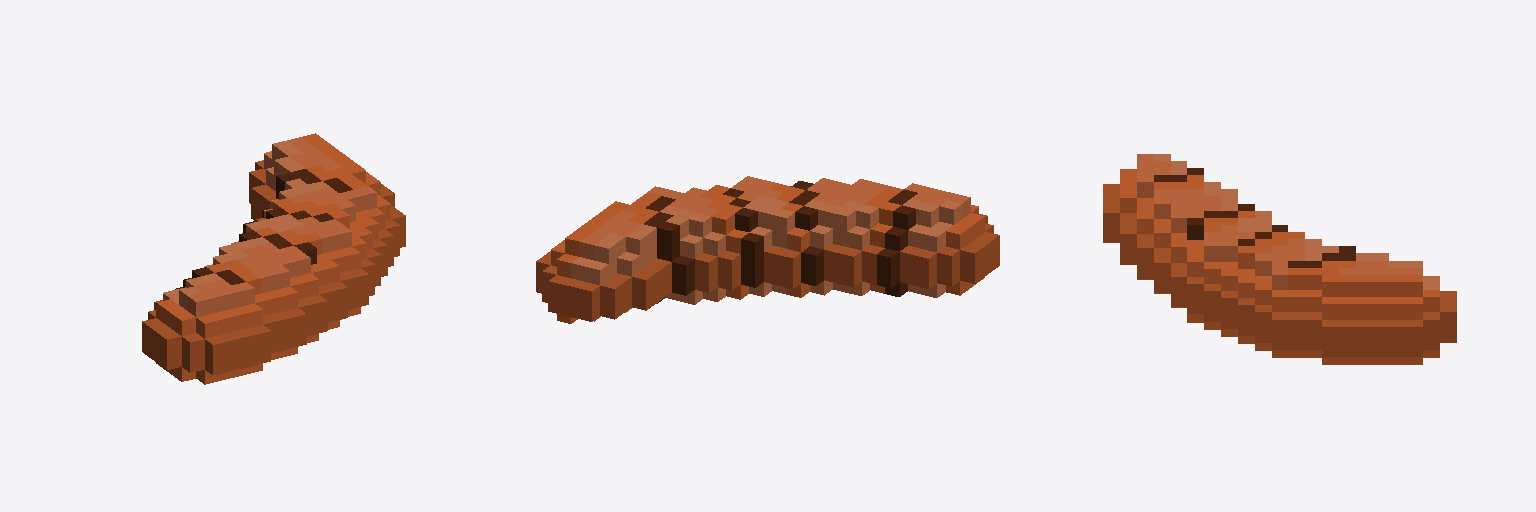
3 renders of one model, left to right at view 1: azimuth 30°, elevation 25°; view 2: azimuth 150°, elevation 25°; view 3: azimuth 270°, elevation 25°, orthographic.
Visible parts, largest first — view 1: object 1; view 2: object 1; view 3: object 1.
Part boxes in pixels (left/top/right/bottom): object 1: left=142, top=133, right=405, bottom=384; object 1: left=536, top=176, right=999, bottom=323; object 1: left=1103, top=154, right=1456, bottom=364.
Size of the model in its own units: 2.2 by 0.5 by 2.1.
Materials: 1 (1 with a texture image).